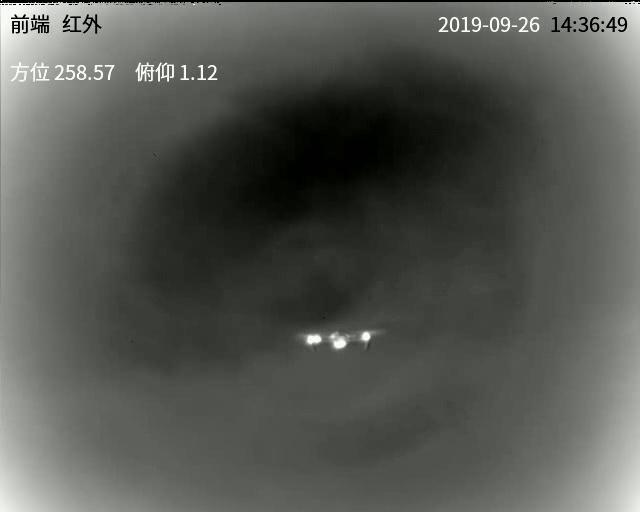DRONE: (307, 330, 373, 354)
